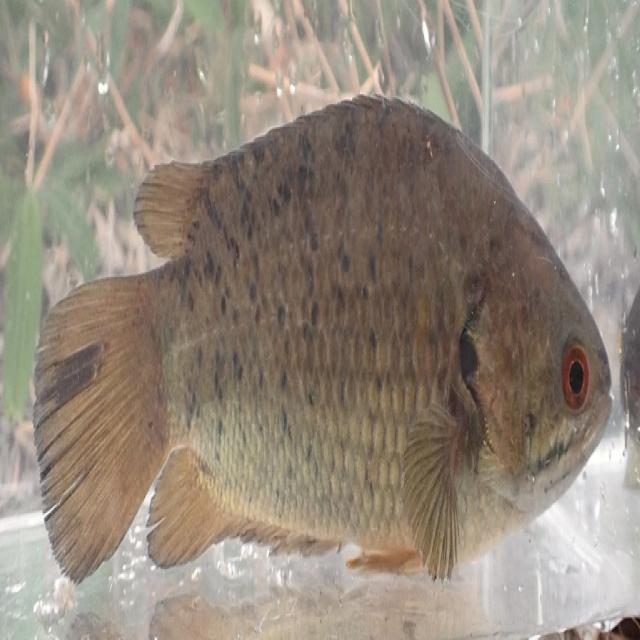Climbing-Perch: (30, 91, 620, 602)
